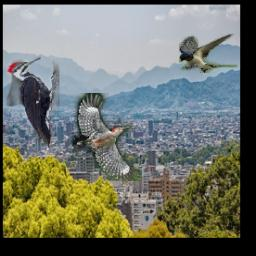Swallow: (180, 33, 238, 73)
Woodpecker: (73, 94, 143, 182), (7, 56, 60, 148)
